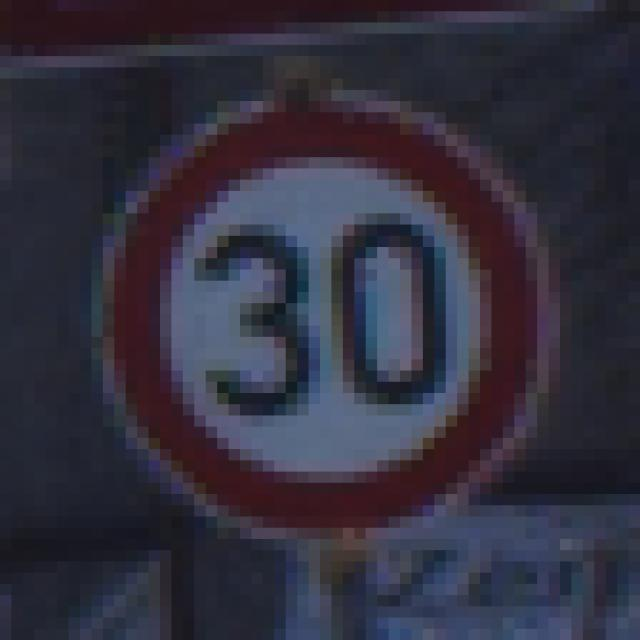Speed Limit -30-: (52, 51, 577, 578)
